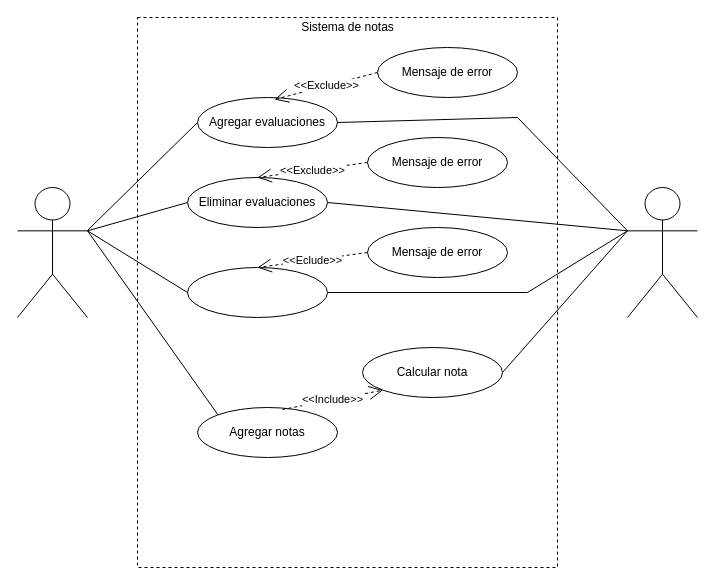
Image size: 715x585. Some labels were removed from this diagram. Here are the shapes that lost their labels. From the top down, the centre of each, then its label:
At point (52, 252): "Ususario".
At point (662, 252): "Sistema".
At point (257, 292): "Consultar evaluaciones".
